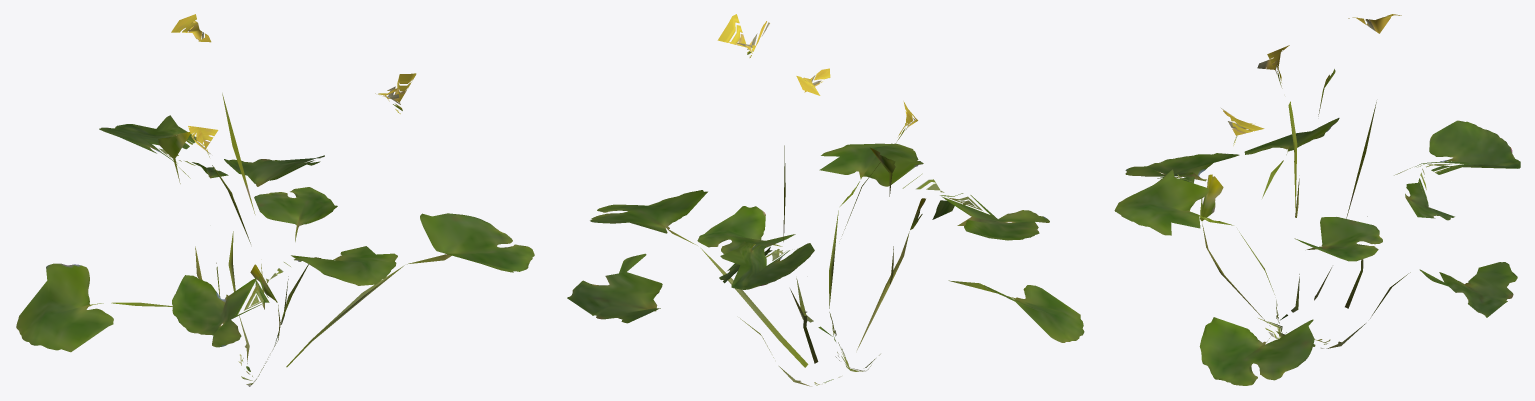
Rendered from perennial-gold-lod2.glb.
3 views of the same model, side by side, from view 1: azimuth 30°, elevation 25°; view 2: azimuth 150°, elevation 25°; view 3: azimuth 270°, elevation 25° (orthographic). The views are drawn at different scales.
Visible parts, largest first — view 1: impostor; view 2: impostor; view 3: impostor.
Boxes of the visible parts, box(x1,y1,x2,y2) form: impostor: box(16, 14, 534, 386); impostor: box(567, 14, 1084, 386); impostor: box(1114, 14, 1520, 385).
Bounding box in the file's own units: 0.2571 × 0.1649 × 0.1863.
Materials: 1 (1 with a texture image).
